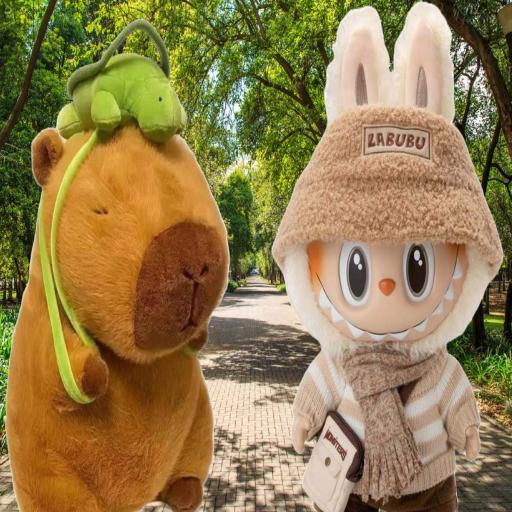capibara: (14, 34, 234, 512)
labubu: (272, 11, 512, 512)
